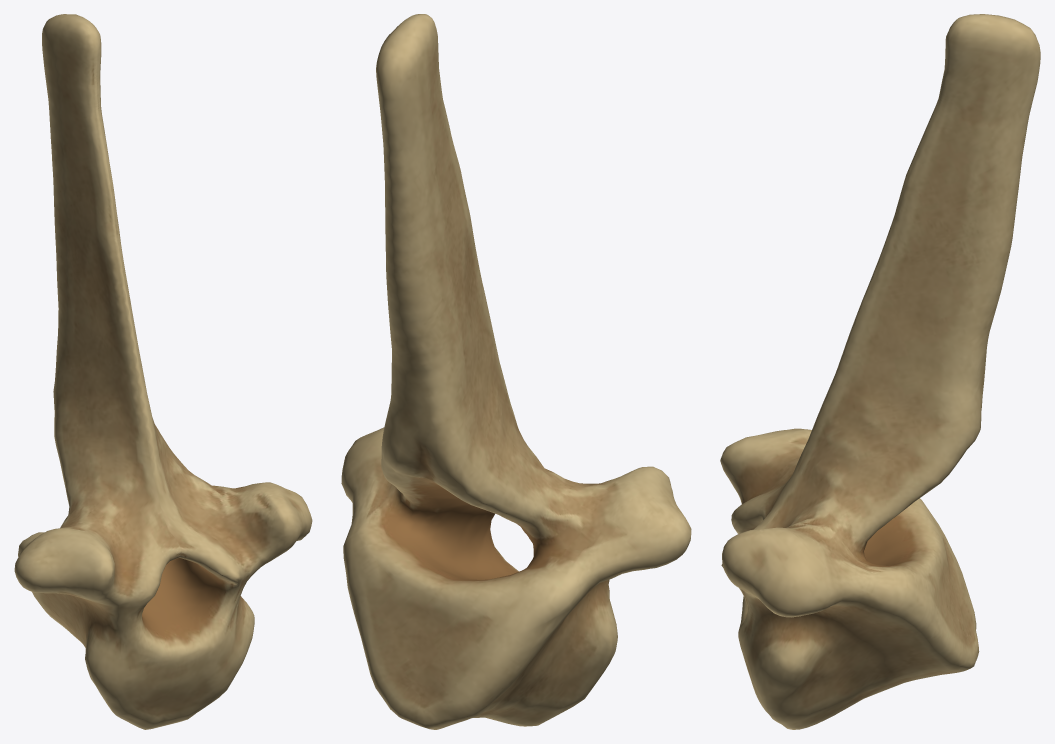
3 views of the same model, side by side, from view 1: azimuth 30°, elevation 25°; view 2: azimuth 150°, elevation 25°; view 3: azimuth 270°, elevation 25° (orthographic). The views are drawn at different scales.
Visible parts, largest first — view 1: ZBrush_defualt_group.015; view 2: ZBrush_defualt_group.015; view 3: ZBrush_defualt_group.015.
Boxes of the visible parts, x1,y1,x2,y2 form: ZBrush_defualt_group.015: (14, 14, 312, 729); ZBrush_defualt_group.015: (341, 14, 691, 729); ZBrush_defualt_group.015: (720, 14, 1040, 729).
Size of the model in its own units: 50.92 by 110 by 45.27.
Materials: 1 (1 with a texture image).
